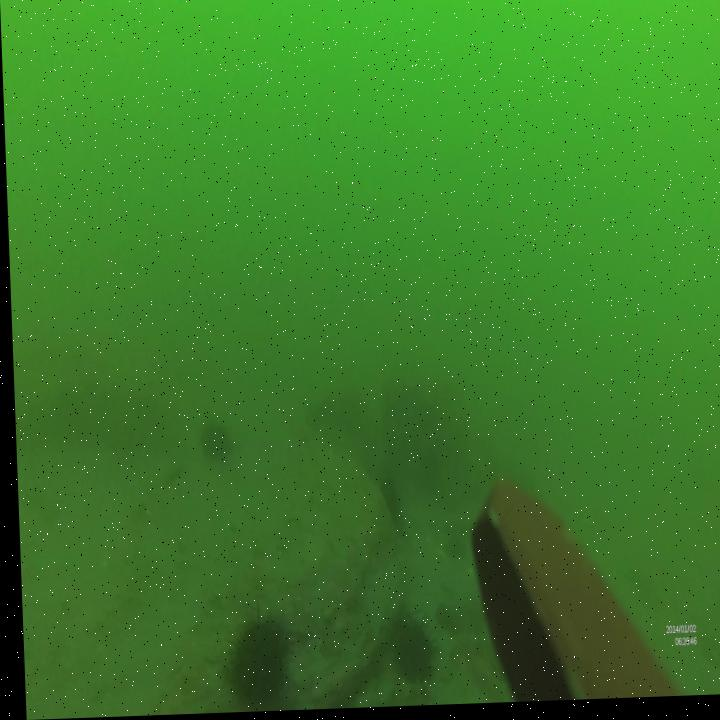echinus: (217, 615, 287, 707), (389, 609, 433, 690), (199, 420, 229, 466)
